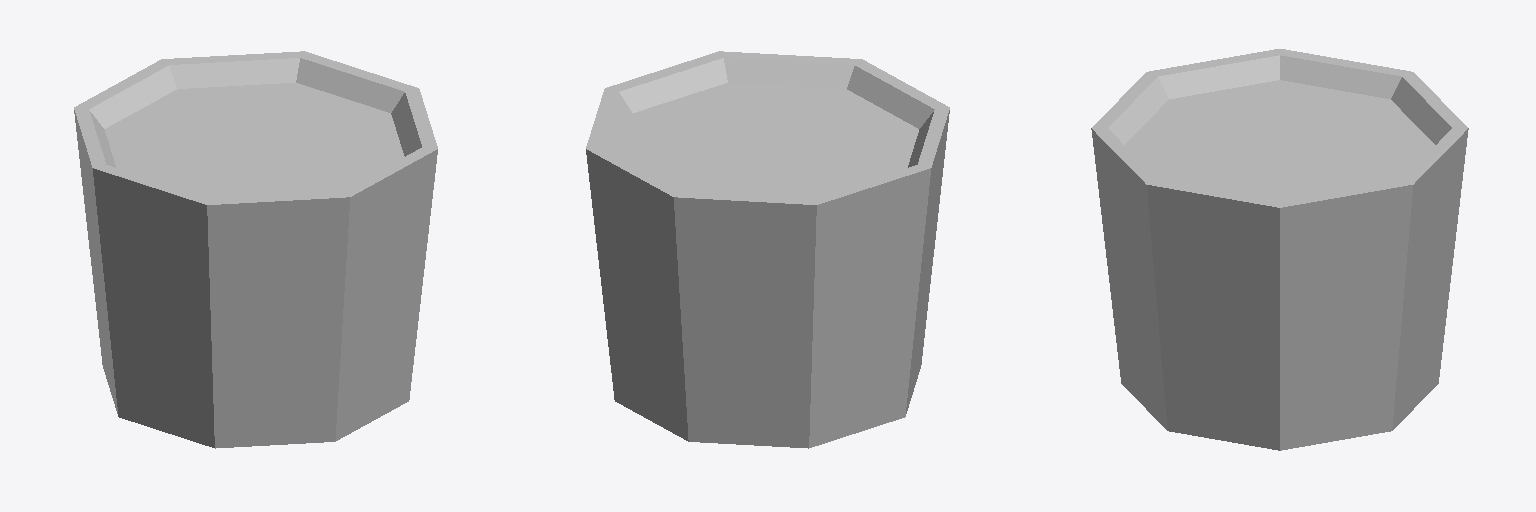
Rendered from barrel_planter.obj.
The picture shows the model from 3 angles: view 1: azimuth 30°, elevation 25°; view 2: azimuth 150°, elevation 25°; view 3: azimuth 270°, elevation 25°; orthographic projection.
Visible parts, largest first — view 1: Barrel_Planter.001_Cylinder.010; view 2: Barrel_Planter.001_Cylinder.010; view 3: Barrel_Planter.001_Cylinder.010.
Part boxes in pixels (x1,y1,x2,y2): Barrel_Planter.001_Cylinder.010: (74,51,437,448); Barrel_Planter.001_Cylinder.010: (586,51,949,448); Barrel_Planter.001_Cylinder.010: (1091,49,1468,450).
Bounding box in the file's own units: 0.9872 × 0.7376 × 0.9872.